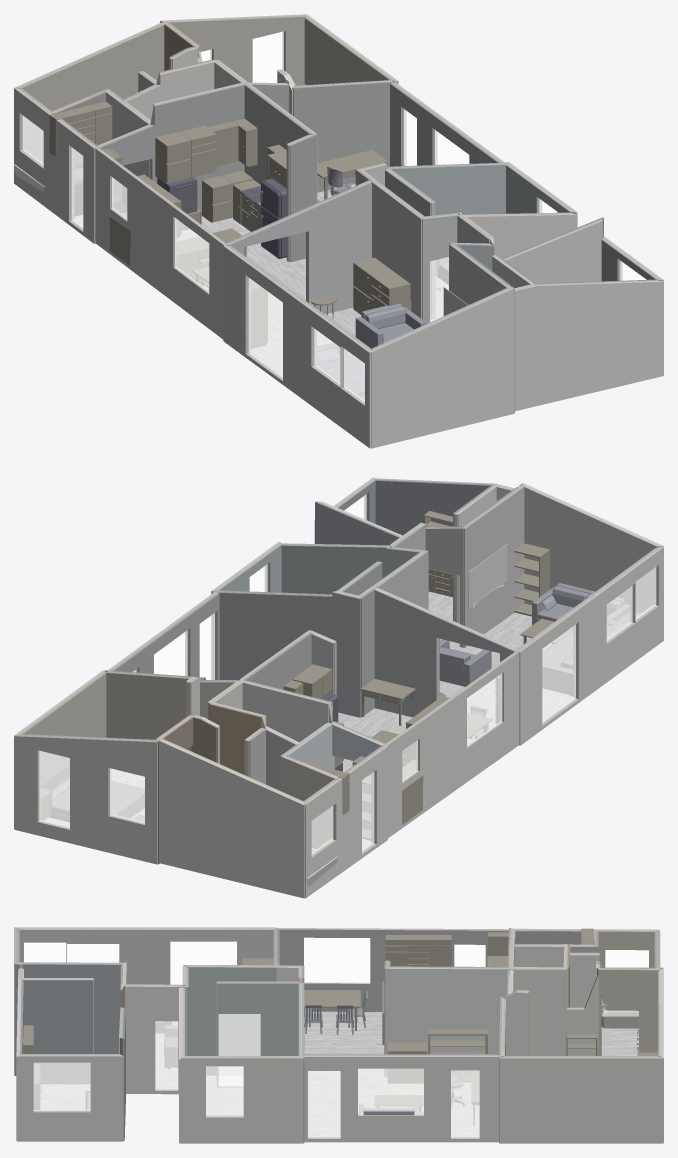
The model's file is house-interior.glb.
3 views of the same model, one above another, from view 1: azimuth 30°, elevation 25°; view 2: azimuth 150°, elevation 25°; view 3: azimuth 270°, elevation 25° (orthographic). The views are drawn at different scales.
Visible parts, largest first — view 1: wall_1, wall_47, wall_23, wall_33, wall_5, wall_57, wall_67, wall_85, wall_26, wall_139, wall_42, wall_113 (+57 smaller); view 2: wall_9, wall_18, wall_23, wall_33, wall_51, wall_59, wall_101, wall_89, wall_4, wall_69, wall_143, wall_73 (+56 smaller); view 3: wall_12, wall_0, wall_111, wall_6, wall_46, wall_95, wall_71, wall_45, floor_Living_Room_2, wall_115, wall_91, wall_29 (+59 smaller).
Part boxes in pixels (x1,y1,x2,y2): wall_1: (370, 287, 514, 448); wall_47: (536, 281, 663, 405); wall_23: (223, 245, 370, 448); wall_33: (95, 148, 223, 339); wall_5: (228, 182, 371, 314); wall_57: (292, 82, 391, 192); wall_67: (20, 24, 164, 162); wall_85: (169, 16, 305, 85); wall_26: (391, 164, 505, 273); wall_139: (371, 181, 422, 318); wall_42: (505, 220, 602, 283); wall_113: (153, 84, 244, 215); wall_9: (160, 740, 304, 898); wall_18: (14, 735, 157, 864); wall_23: (519, 547, 663, 745); wall_33: (387, 652, 519, 838); wall_51: (524, 486, 657, 613); wall_59: (374, 590, 514, 720); wall_101: (219, 592, 332, 679); wall_89: (464, 487, 523, 647); wall_4: (107, 672, 189, 739); wall_69: (281, 545, 385, 594); wall_143: (375, 480, 492, 535); wall_73: (20, 672, 106, 783); wall_12: (500, 1057, 662, 1143); wall_0: (303, 1056, 498, 1142); wall_111: (385, 968, 508, 1076); wall_6: (180, 1057, 303, 1143); wall_46: (17, 1055, 123, 1141); wall_95: (19, 929, 273, 984); wall_71: (22, 980, 92, 1083); wall_45: (187, 966, 276, 1075); floor_Living_Room_2: (308, 1075, 479, 1137); wall_115: (279, 929, 508, 1011); wall_91: (217, 982, 299, 1087); wall_29: (125, 986, 180, 1094).
Size of the model in its own units: 8.56 by 3.42 by 17.96.
31 materials, 10 textured.
